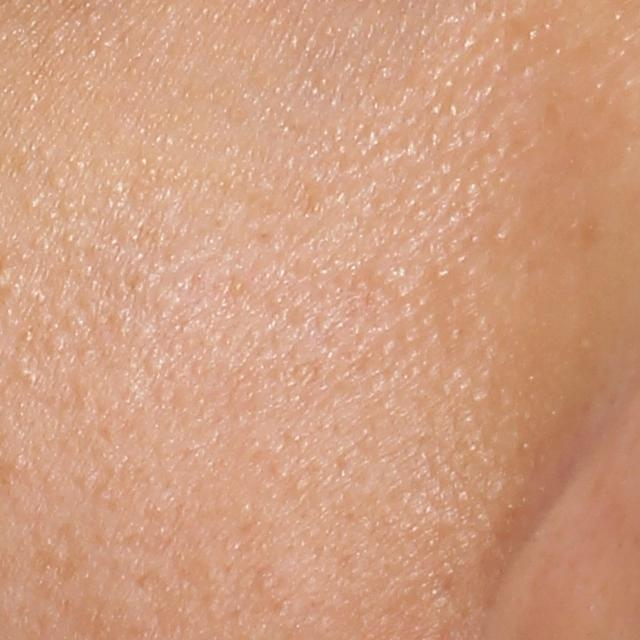comedo: (15, 363, 34, 382)
